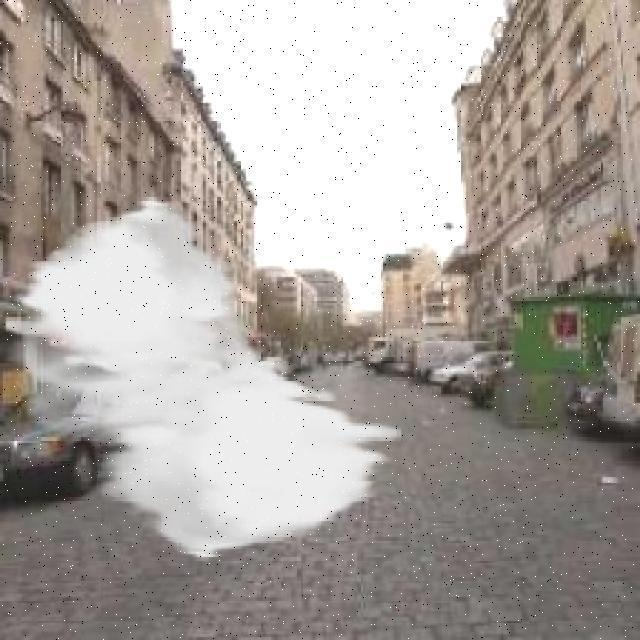smoke: (0, 190, 409, 572)
